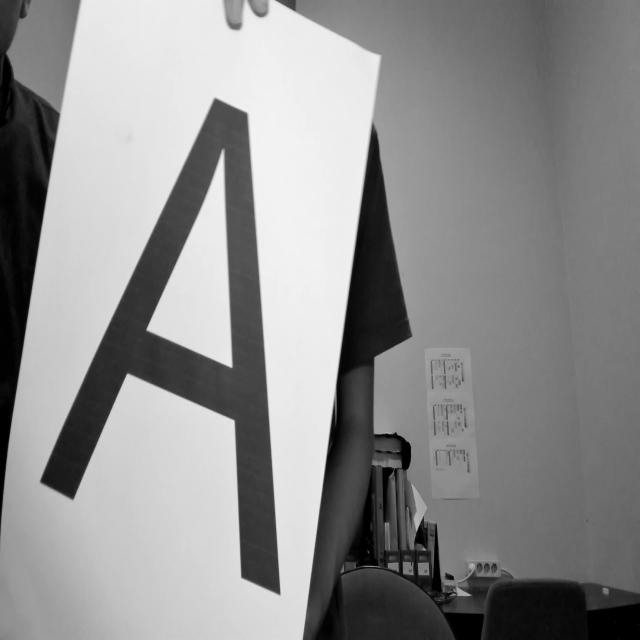a: (24, 76, 318, 621)
